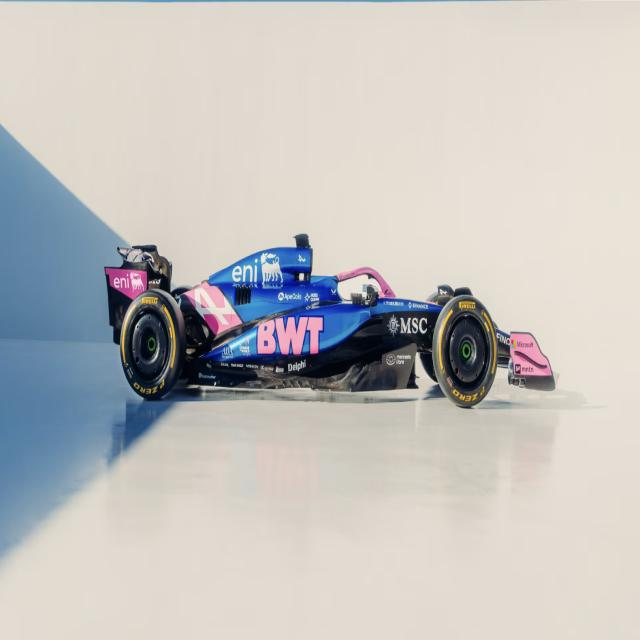Alpine: (105, 232, 559, 412)
